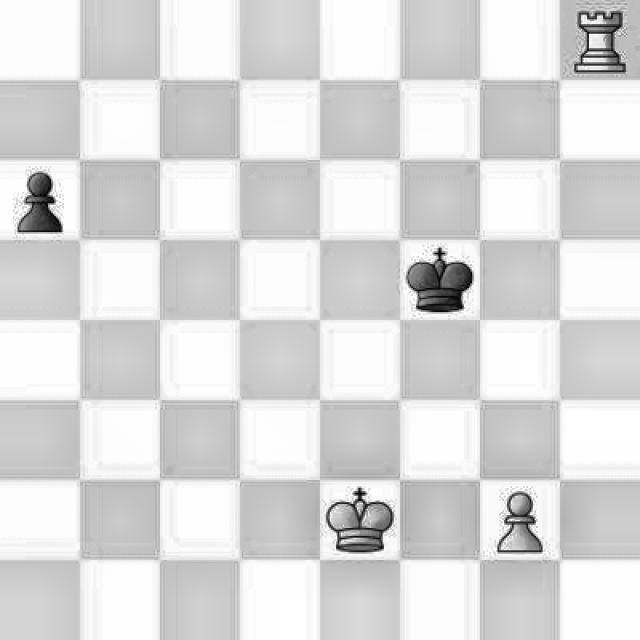black king: (403, 238, 477, 316)
black pawn: (0, 160, 78, 237)
white king: (324, 481, 398, 560)
white pawn: (480, 483, 560, 564)
white rook: (569, 1, 637, 76)
